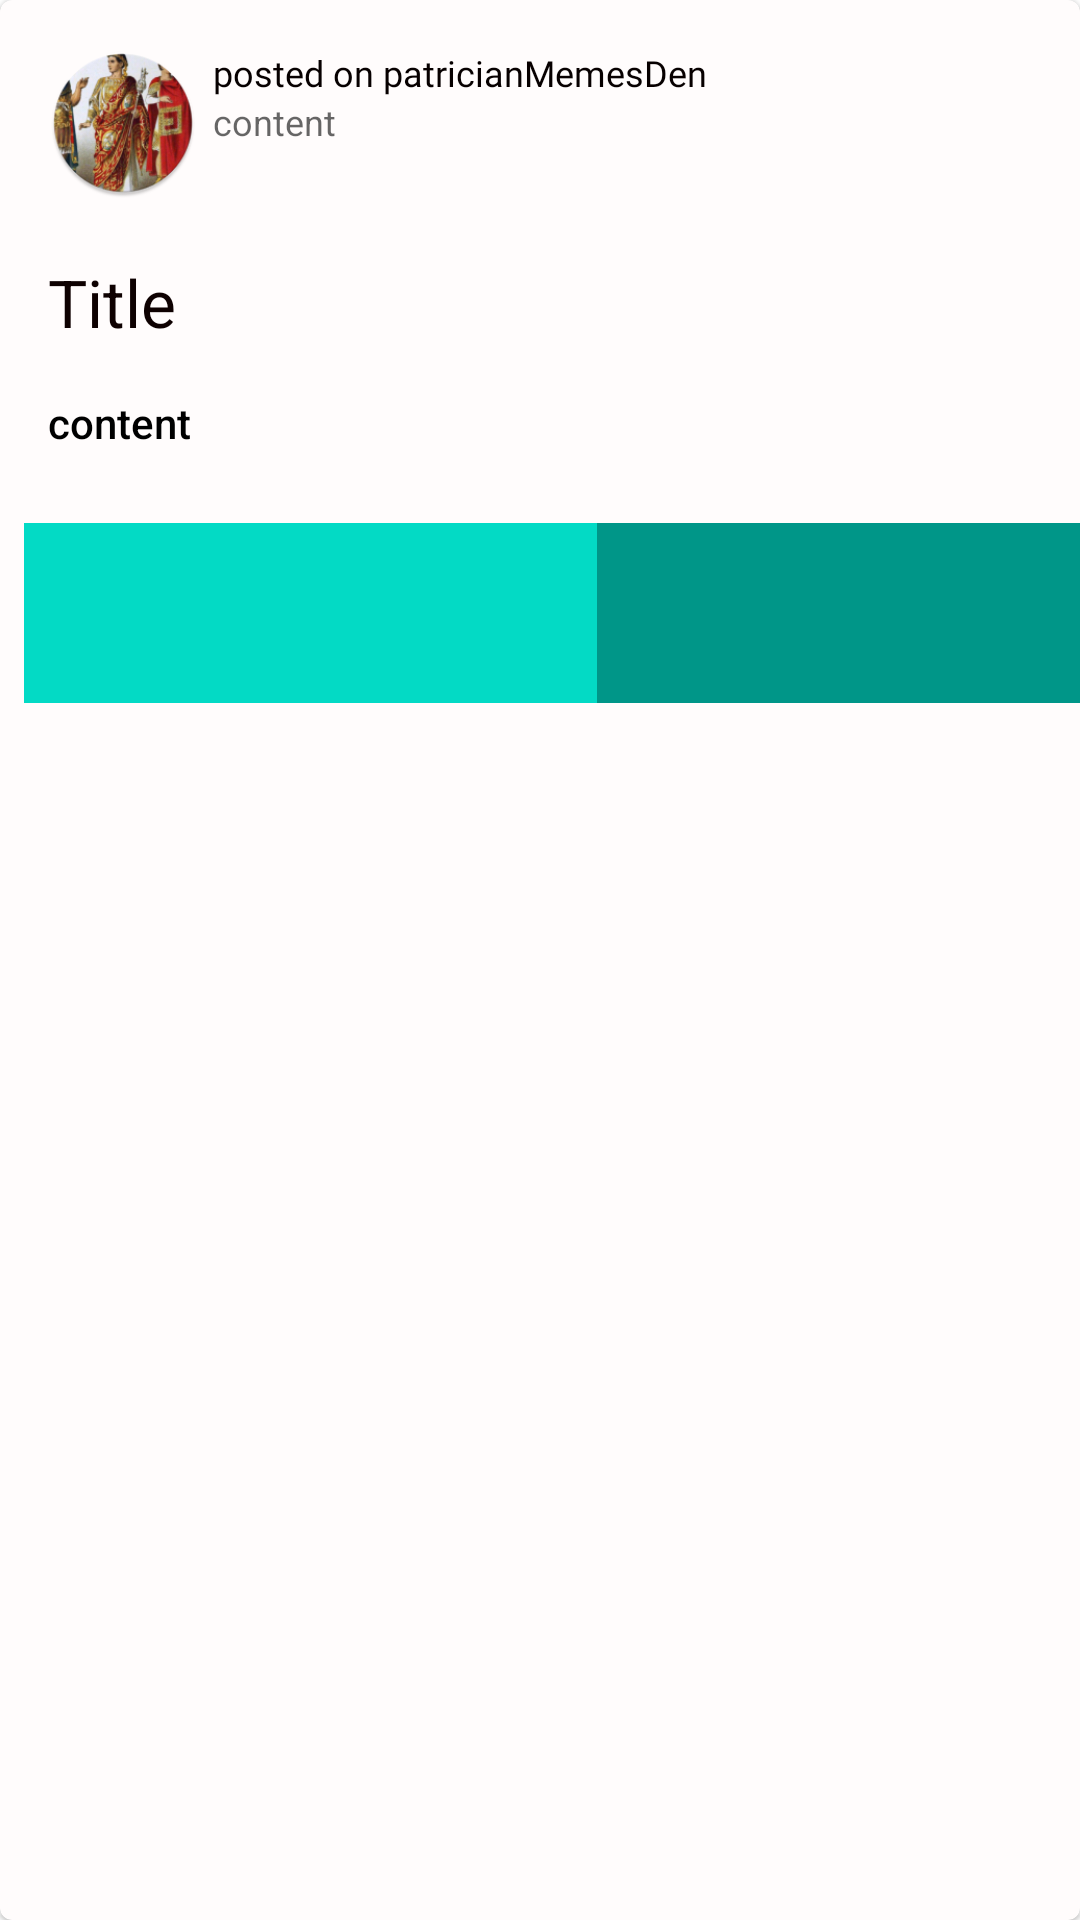

Named icons in this screenshot (1080 × 1920) and their bounding boxes, [left=x1, top=y1, right=x2, bottom=y2]:
patricians round: [left=53, top=53, right=193, bottom=195]
